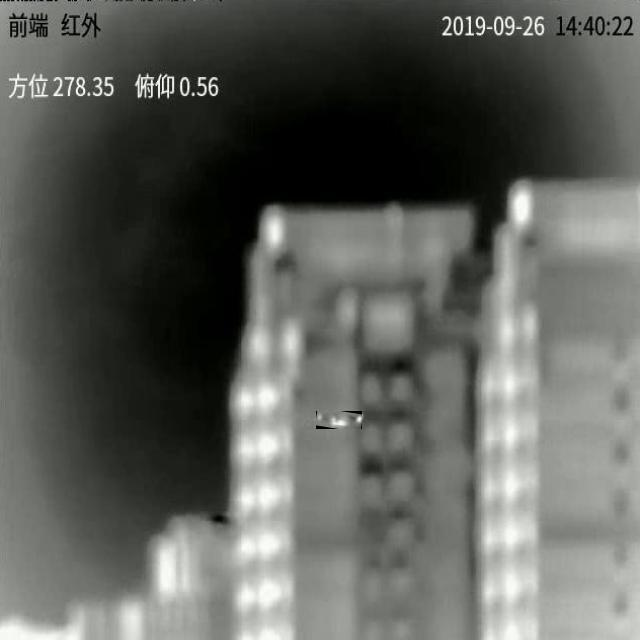drone: (317, 412, 362, 429)
